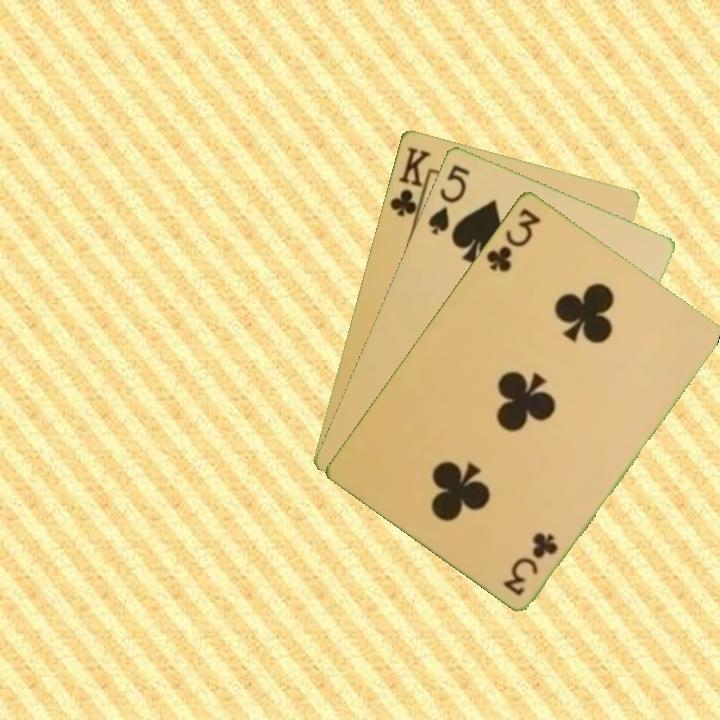3c: (482, 204, 544, 275), (500, 528, 561, 598)
5s: (424, 160, 473, 238)
Kc: (386, 142, 433, 226)
